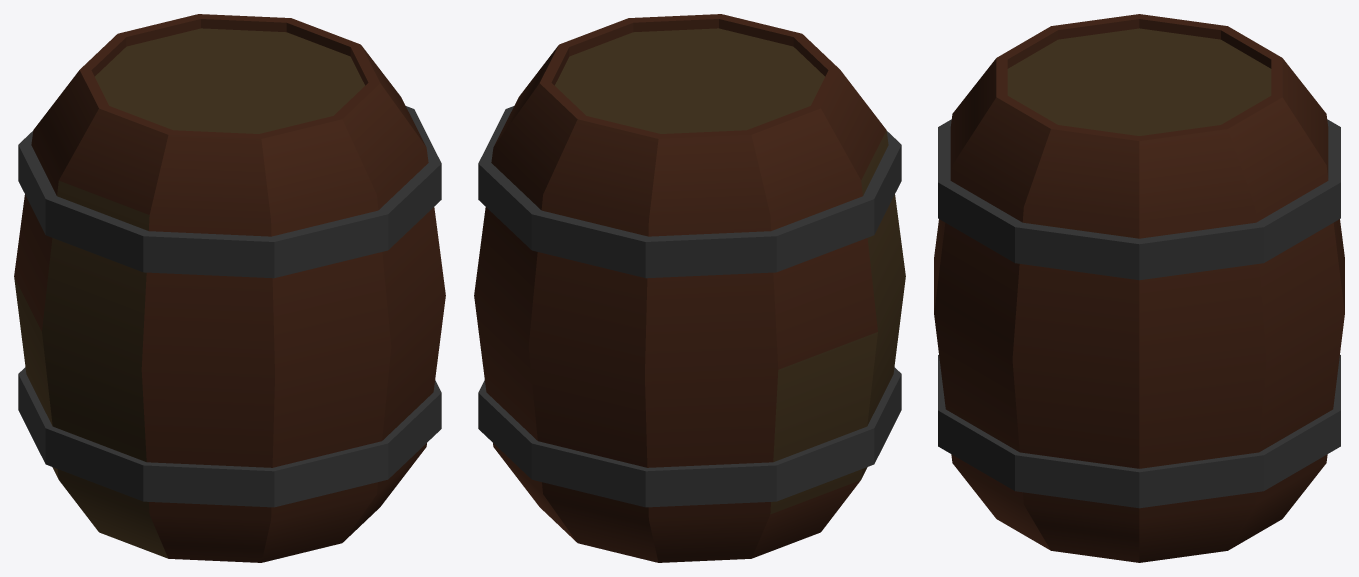
Rendered from wooden_barrel.fbx.
3 renders of one model, left to right at view 1: azimuth 30°, elevation 25°; view 2: azimuth 150°, elevation 25°; view 3: azimuth 270°, elevation 25°, orthographic.
Visible parts, largest first — view 1: woodenbarrel, barrel_ring; view 2: woodenbarrel, barrel_ring; view 3: woodenbarrel, barrel_ring.
Boxes of the visible parts, bbox=[...] form: woodenbarrel: bbox=[14, 14, 445, 562]; barrel_ring: bbox=[18, 106, 441, 507]; woodenbarrel: bbox=[474, 14, 905, 562]; barrel_ring: bbox=[478, 106, 901, 507]; woodenbarrel: bbox=[934, 14, 1344, 562]; barrel_ring: bbox=[938, 119, 1340, 508].
Size of the model in its own units: 5.74 by 6.19 by 5.46.
